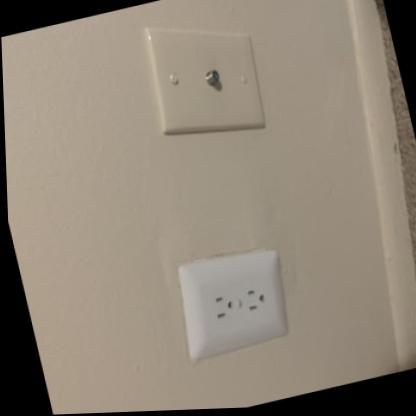OUTLET: (168, 245, 293, 362)
